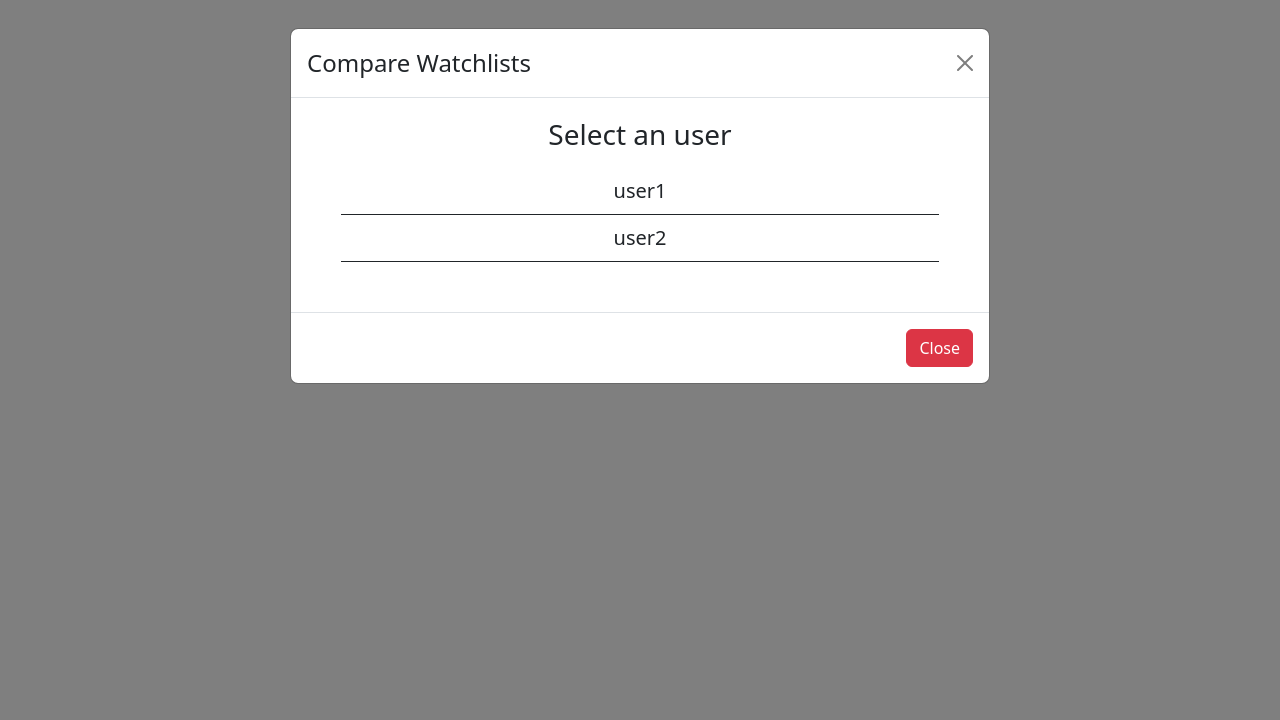
Test: Compare Watchlist Modal › goes back to select user on click of back
Click the button "user1" at [640, 191], box [341,168,939,215]
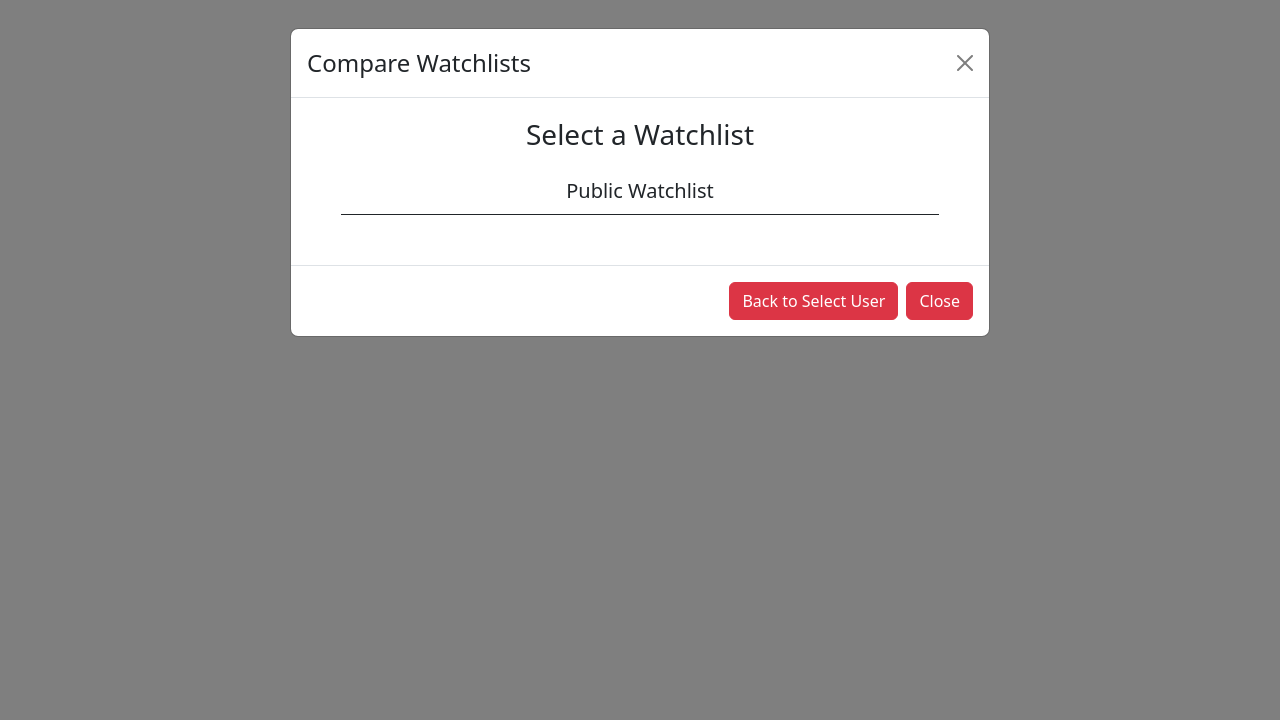
Click the button "Back to Select User" at [814, 301], box [729,282,898,320]
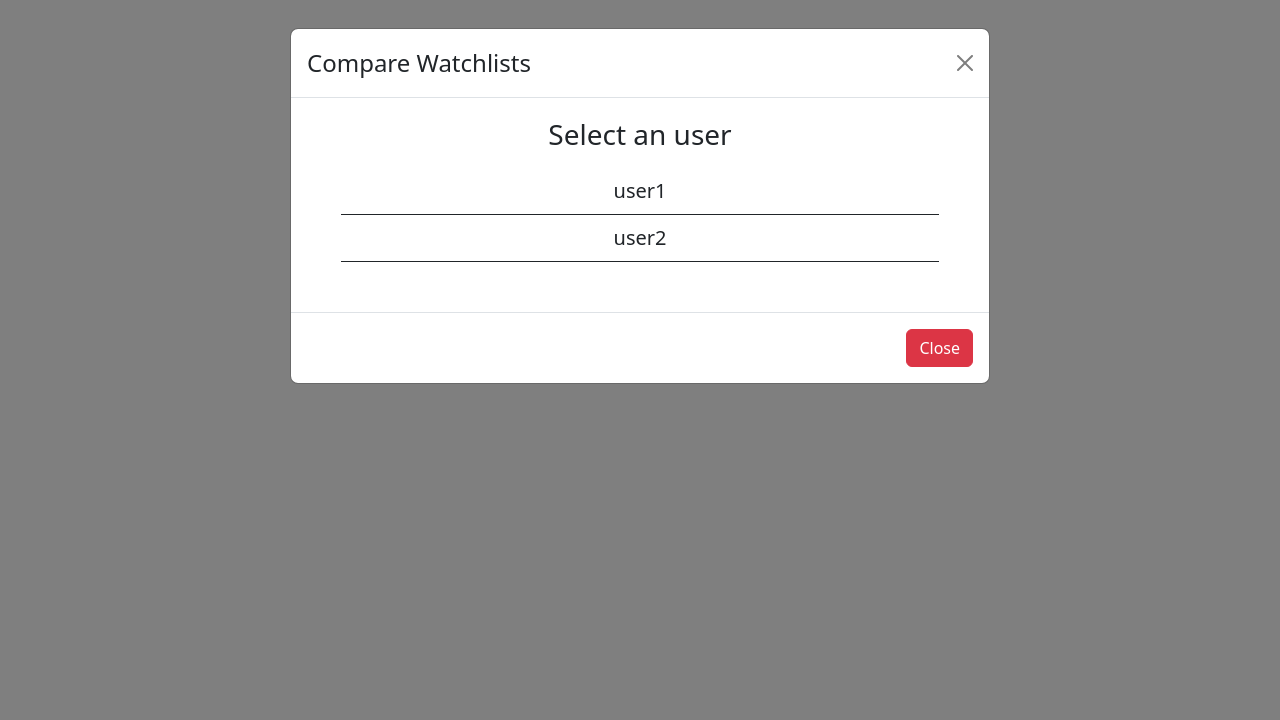
Check: the heading "Select an user" is shown, box [548,115,732,153]
